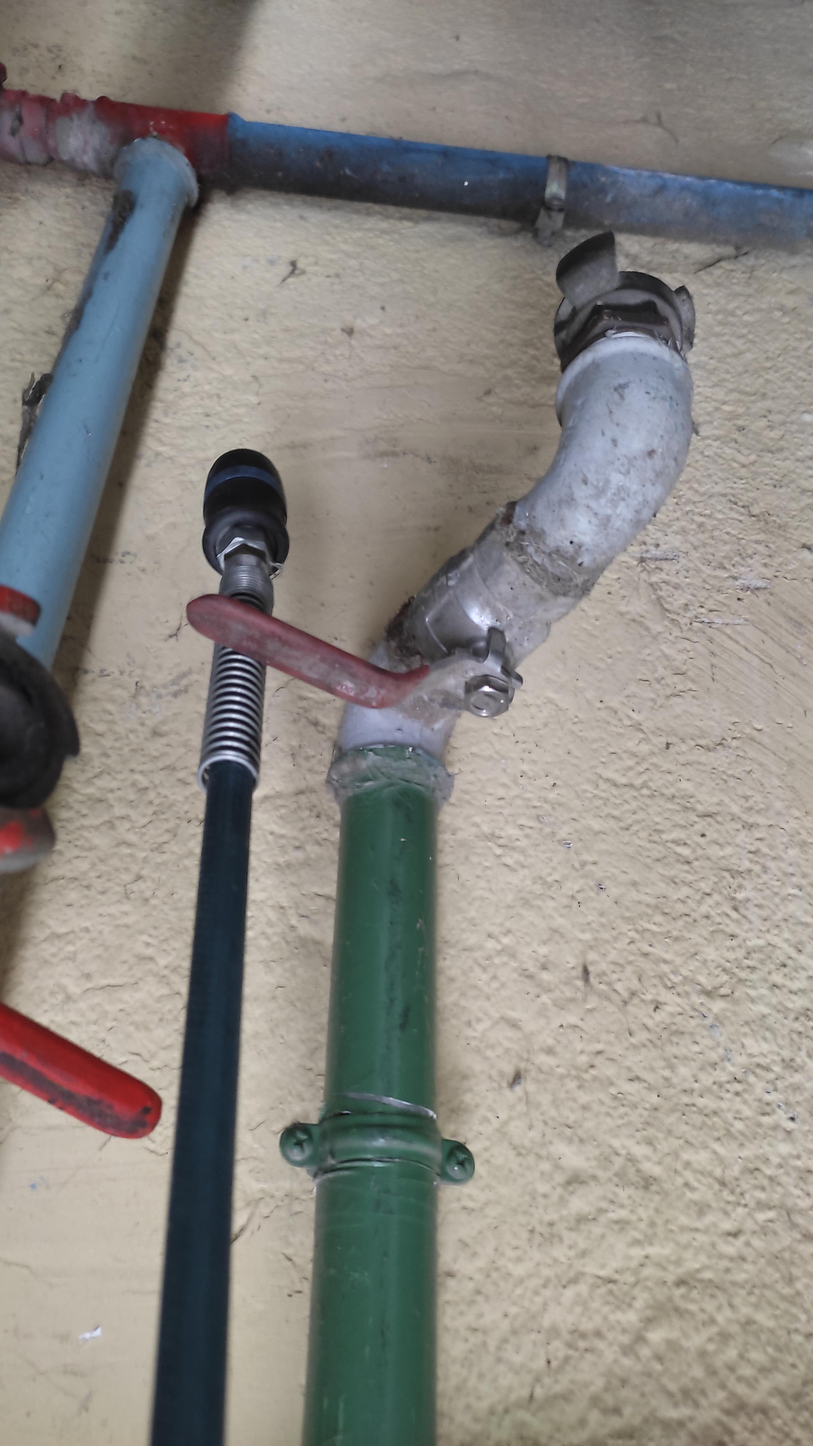closed valve: (182, 495, 607, 734)
